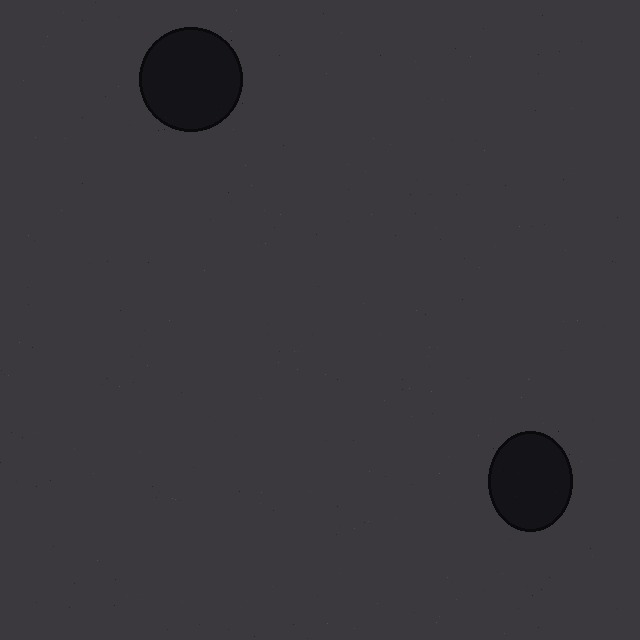pothole: (139, 27, 242, 131), (488, 431, 572, 531)
